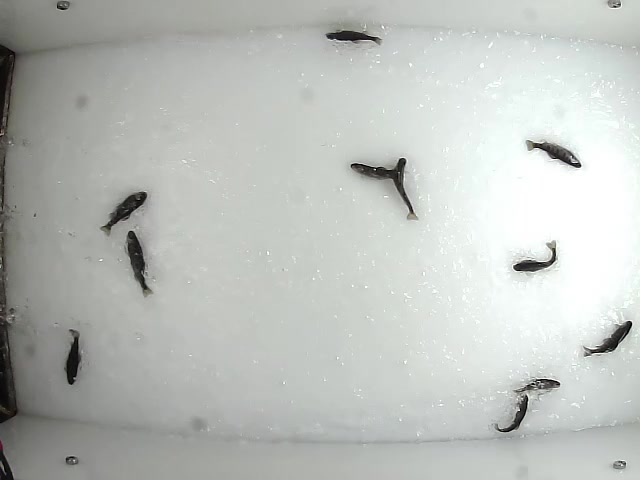fish: (96, 188, 148, 236), (123, 227, 156, 299), (580, 319, 632, 358), (392, 153, 419, 221), (524, 138, 583, 169), (511, 239, 559, 274), (492, 391, 531, 434), (346, 160, 411, 182), (61, 325, 84, 385), (511, 378, 562, 393), (323, 30, 388, 38)
